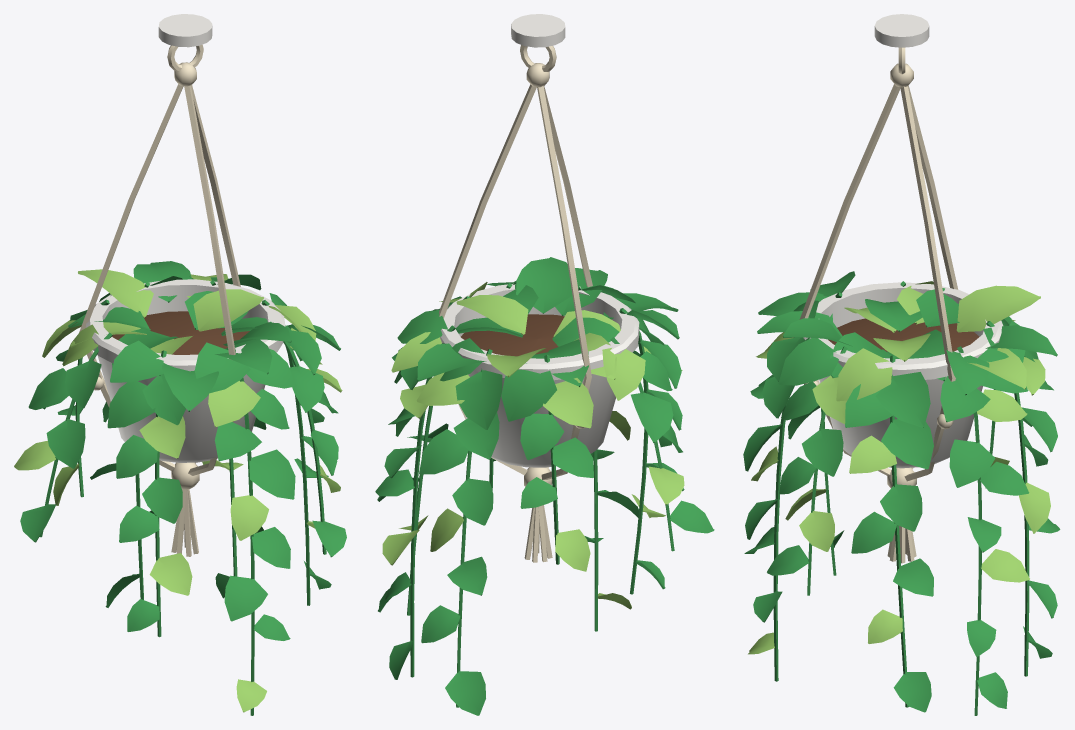
Rendered from plant_hanging.glb.
3 views of the same model, side by side, from view 1: azimuth 30°, elevation 25°; view 2: azimuth 150°, elevation 25°; view 3: azimuth 270°, elevation 25° (orthographic).
Visible parts, largest first — view 1: leaf, leaf_light, pot, rope, soil; view 2: leaf, leaf_light, pot, rope, soil; view 3: leaf, leaf_light, pot, rope, soil.
Boxes of the visible parts, <box> form: leaf: <box>20,261,346,715</box>; leaf_light: <box>14,269,342,712</box>; pot: <box>86,14,285,462</box>; rope: <box>79,44,240,556</box>; soil: <box>112,311,249,354</box>; leaf: <box>375,257,714,715</box>; leaf_light: <box>382,282,684,609</box>; pot: <box>440,14,639,467</box>; rope: <box>439,45,592,562</box>; soil: <box>461,314,564,356</box>; leaf: <box>743,271,1060,715</box>; leaf_light: <box>748,281,1050,654</box>; pot: <box>803,14,1003,468</box>; rope: <box>799,47,958,563</box>; soil: <box>828,318,979,351</box>.
Bounding box in the file's own units: 0.4672 × 0.9204 × 0.4053.
